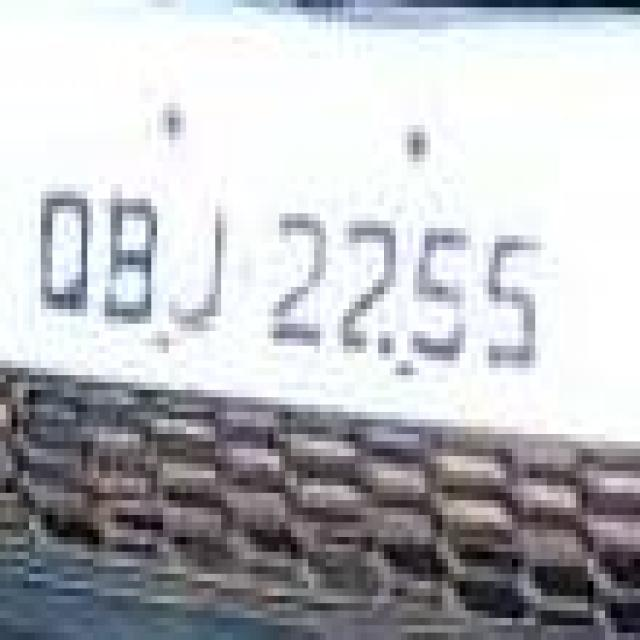3: (270, 206, 324, 338)
5: (404, 215, 472, 371), (478, 222, 544, 380)
B: (98, 184, 158, 332)
J: (173, 188, 224, 332)
Q: (39, 183, 92, 331)
